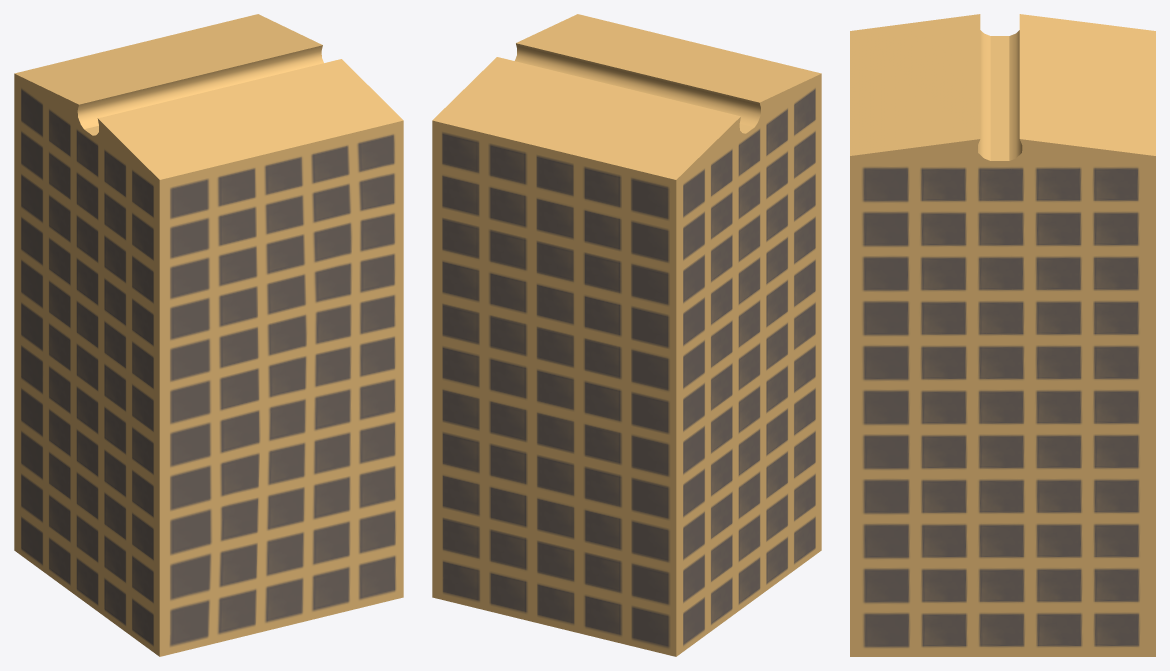
File: st2Whole.fbx
3 views of the same model, side by side, from view 1: azimuth 30°, elevation 25°; view 2: azimuth 150°, elevation 25°; view 3: azimuth 270°, elevation 25° (orthographic). The views are drawn at different scales.
Parts seen in each view (by area): view 1: SonyTower2; view 2: SonyTower2; view 3: SonyTower2.
Boxes of the visible parts, x1=… form: SonyTower2: x1=14, y1=14, x2=403, y2=656; SonyTower2: x1=432, y1=14, x2=821, y2=656; SonyTower2: x1=850, y1=14, x2=1155, y2=656.
Bounding box in the file's own units: 0.0992 × 0.1916 × 0.1025.
1 material, 1 textured.
